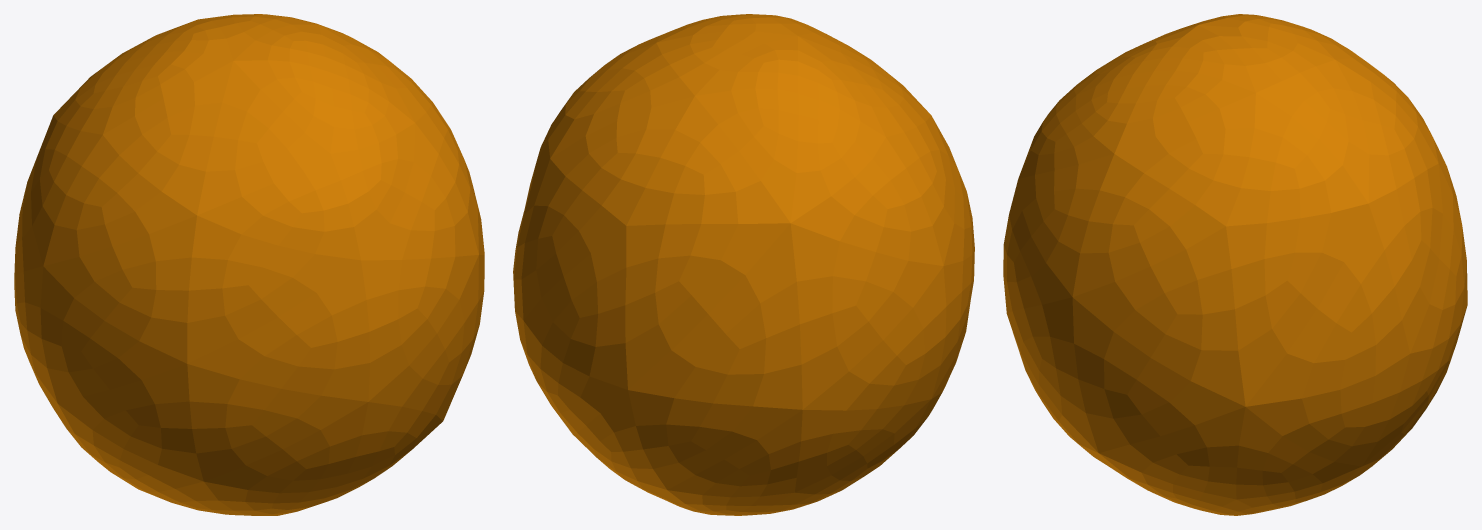
File: orange.fbx
3 renders of one model, left to right at view 1: azimuth 30°, elevation 25°; view 2: azimuth 150°, elevation 25°; view 3: azimuth 270°, elevation 25°, orthographic. The views are drawn at different scales.
Visible parts, largest first — view 1: Sphere; view 2: Sphere; view 3: Sphere.
Boxes of the visible parts, x1=… form: Sphere: x1=14, y1=14, x2=484, y2=515; Sphere: x1=513, y1=14, x2=974, y2=515; Sphere: x1=1003, y1=14, x2=1467, y2=515.
Size of the model in its own units: 179 by 192 by 178.
